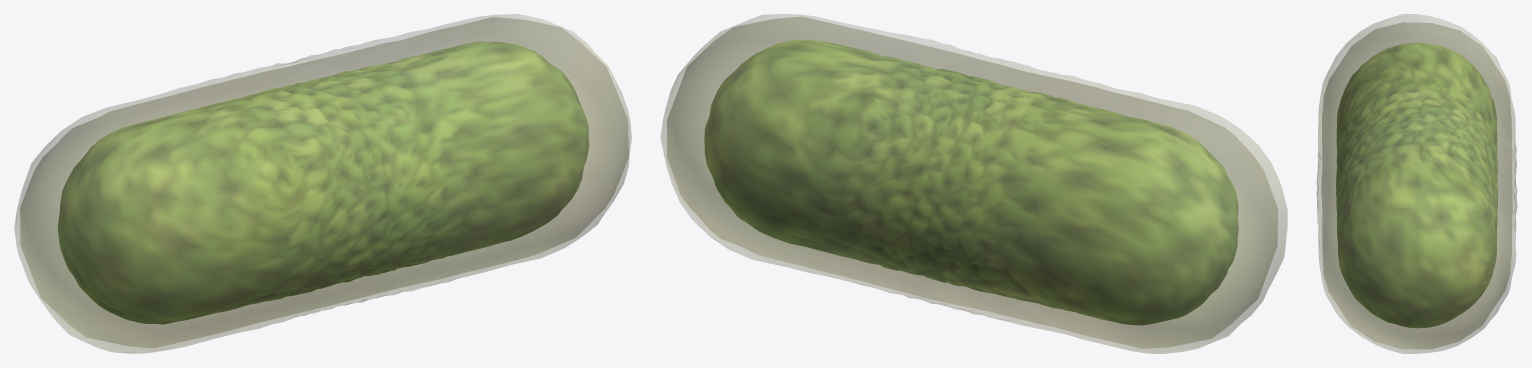
The model's file is envelope-bacterium.glb.
3 renders of one model, left to right at view 1: azimuth 30°, elevation 25°; view 2: azimuth 150°, elevation 25°; view 3: azimuth 270°, elevation 25°, orthographic. The views are drawn at different scales.
Visible parts, largest first — view 1: envelope-bacterium-capsule, envelope-bacterium-wall; view 2: envelope-bacterium-capsule, envelope-bacterium-wall; view 3: envelope-bacterium-capsule, envelope-bacterium-wall.
Part boxes in pixels (x1,y1,x2,y2): envelope-bacterium-capsule: (14, 14, 631, 353); envelope-bacterium-wall: (57, 41, 589, 324); envelope-bacterium-capsule: (660, 14, 1287, 353); envelope-bacterium-wall: (704, 40, 1238, 325); envelope-bacterium-capsule: (1316, 14, 1517, 353); envelope-bacterium-wall: (1336, 42, 1497, 328).
Size of what is drawn, in the model's own units: 16.78 by 6.37 by 6.35.
